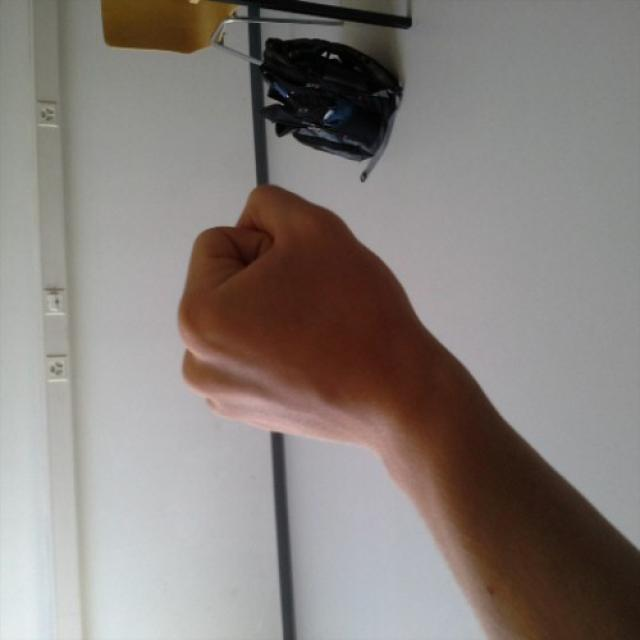fist: (166, 172, 432, 448)
